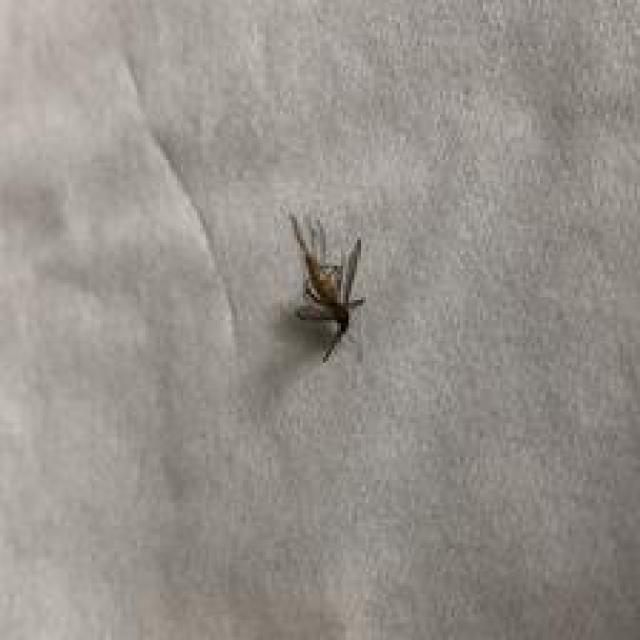Culex: (286, 210, 366, 364)
